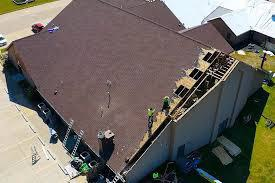sagging_roof: (155, 44, 237, 122)
